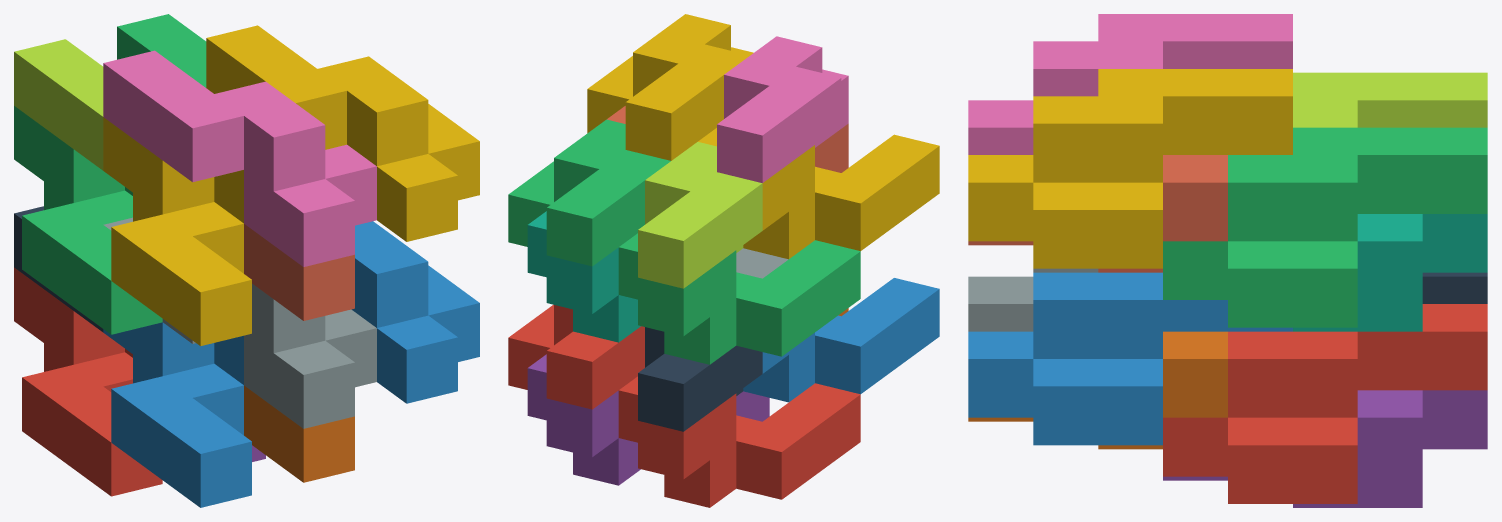
The model's file is tiling.obj.
3 renders of one model, left to right at view 1: azimuth 30°, elevation 25°; view 2: azimuth 150°, elevation 25°; view 3: azimuth 270°, elevation 25°, orthographic. The views are drawn at different scales.
Visible parts, largest first — view 1: copy_2_domain_4, copy_2_domain_8, copy_1_domain_4, copy_1_domain_2, copy_1_domain_1, copy_1_domain_3, copy_2_domain_6, copy_2_domain_2, copy_2_domain_3, copy_1_domain_8, copy_1_domain_6, copy_2_domain_7 (+1 smaller); view 2: copy_1_domain_1, copy_1_domain_3, copy_1_domain_4, copy_2_domain_8, copy_2_domain_4, copy_2_domain_7, copy_2_domain_3, copy_1_domain_2, copy_2_domain_5, copy_1_domain_5, copy_2_domain_1, copy_1_domain_7 (+2 smaller); view 3: copy_2_domain_8, copy_2_domain_7, copy_2_domain_5, copy_2_domain_6, copy_2_domain_4, copy_1_domain_5, copy_1_domain_7, copy_2_domain_3, copy_1_domain_6, copy_1_domain_8, copy_2_domain_2, copy_2_domain_1.
Part boxes in pixels (bbox=[...]): copy_2_domain_4: bbox=[103, 50, 376, 266]; copy_2_domain_8: bbox=[206, 25, 479, 241]; copy_1_domain_4: bbox=[103, 117, 251, 346]; copy_1_domain_2: bbox=[103, 322, 251, 507]; copy_1_domain_1: bbox=[14, 267, 162, 496]; copy_1_domain_3: bbox=[14, 106, 162, 334]; copy_2_domain_6: bbox=[351, 221, 479, 403]; copy_2_domain_2: bbox=[103, 217, 376, 428]; copy_2_domain_3: bbox=[14, 39, 103, 170]; copy_1_domain_8: bbox=[244, 224, 354, 320]; copy_1_domain_6: bbox=[244, 385, 354, 482]; copy_2_domain_7: bbox=[117, 14, 206, 87]; copy_1_domain_1: bbox=[618, 376, 860, 507]; copy_1_domain_3: bbox=[618, 233, 860, 364]; copy_1_domain_4: bbox=[698, 128, 939, 259]; copy_2_domain_8: bbox=[587, 14, 753, 160]; copy_2_domain_4: bbox=[717, 36, 848, 182]; copy_2_domain_7: bbox=[508, 119, 670, 266]; copy_2_domain_3: bbox=[638, 142, 762, 288]; copy_1_domain_2: bbox=[743, 278, 939, 402]; copy_2_domain_5: bbox=[508, 304, 644, 409]; copy_1_domain_5: bbox=[527, 354, 769, 485]; copy_2_domain_1: bbox=[638, 327, 762, 431]; copy_1_domain_7: bbox=[527, 211, 640, 342]; copy_2_domain_8: bbox=[968, 69, 1292, 268]; copy_2_domain_7: bbox=[1163, 127, 1487, 327]; copy_2_domain_5: bbox=[1163, 304, 1487, 503]; copy_2_domain_6: bbox=[968, 272, 1292, 445]; copy_2_domain_4: bbox=[968, 14, 1292, 154]; copy_1_domain_5: bbox=[1163, 390, 1487, 507]; copy_1_domain_7: bbox=[1293, 214, 1487, 331]; copy_2_domain_3: bbox=[1293, 72, 1487, 127]; copy_1_domain_6: bbox=[968, 331, 1227, 449]; copy_1_domain_8: bbox=[968, 155, 1227, 272]; copy_2_domain_2: bbox=[968, 268, 1098, 331]; copy_2_domain_1: bbox=[1422, 272, 1487, 303].
Size of the model in its own units: 6 by 7 by 8.
